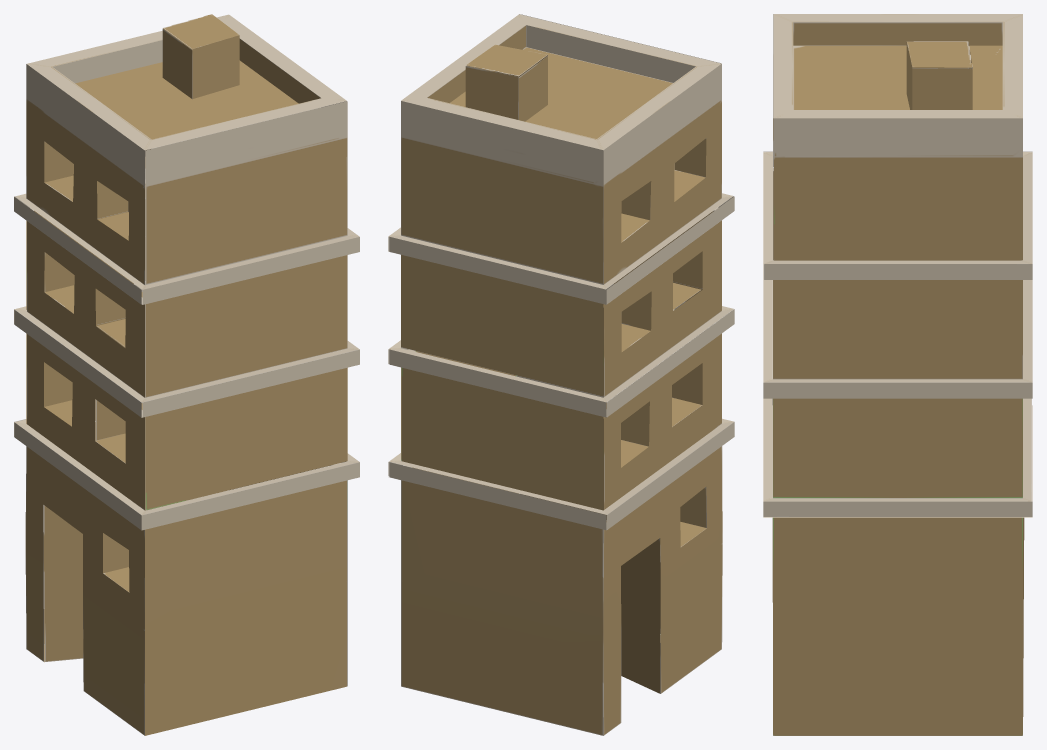
The picture shows the model from 3 angles, left to right: view 1: azimuth 30°, elevation 25°; view 2: azimuth 150°, elevation 25°; view 3: azimuth 270°, elevation 25°; orthographic projection. The views are drawn at different scales.
Visible parts, largest first — view 1: Box001; view 2: Box001; view 3: Box001.
Boxes of the visible parts, box(x1,y1,x2,y2) form: Box001: box(14, 14, 359, 735); Box001: box(388, 14, 734, 735); Box001: box(763, 14, 1032, 735).
Size of the model in its own units: 104 by 281 by 106.
1 material, 1 textured.
